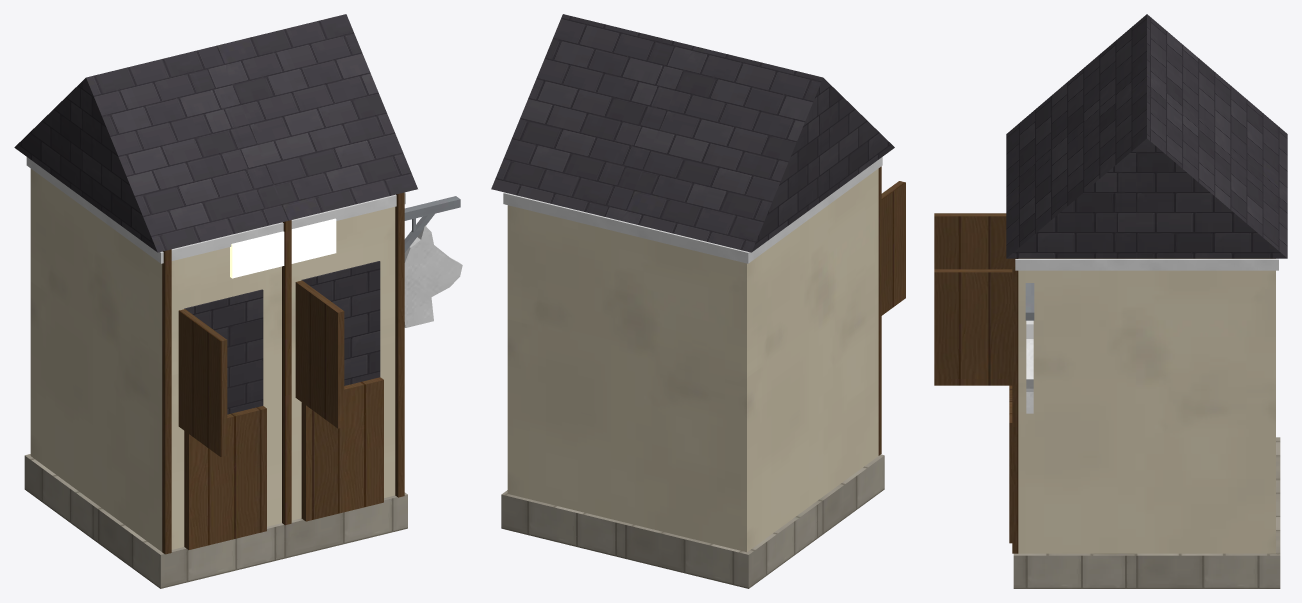
Rendered from protocol.1inch.glb.
3 renders of one model, left to right at view 1: azimuth 30°, elevation 25°; view 2: azimuth 150°, elevation 25°; view 3: azimuth 270°, elevation 25°, orthographic. The views are drawn at different scales.
Parts seen in each view (by area): view 1: building.protocol.1inch; view 2: building.protocol.1inch; view 3: building.protocol.1inch.
Part boxes in pixels (x1,y1,x2,y2): building.protocol.1inch: [14, 14, 462, 588]; building.protocol.1inch: [491, 14, 905, 588]; building.protocol.1inch: [934, 14, 1287, 588].
Size of the model in its own units: 2.42 by 3.4 by 2.4.
8 materials, 7 textured.
